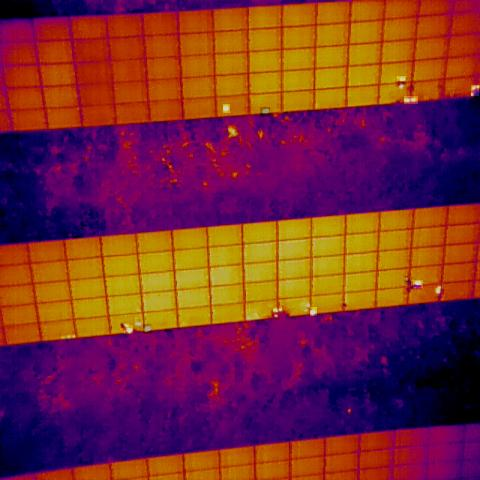fault: (434, 283, 443, 296), (404, 96, 418, 104), (260, 107, 270, 117), (143, 324, 152, 334), (471, 85, 479, 96), (124, 325, 133, 334), (413, 280, 423, 288), (273, 306, 283, 314), (398, 81, 406, 90), (223, 104, 230, 113), (310, 307, 317, 316), (397, 76, 406, 81), (405, 276, 408, 282)
